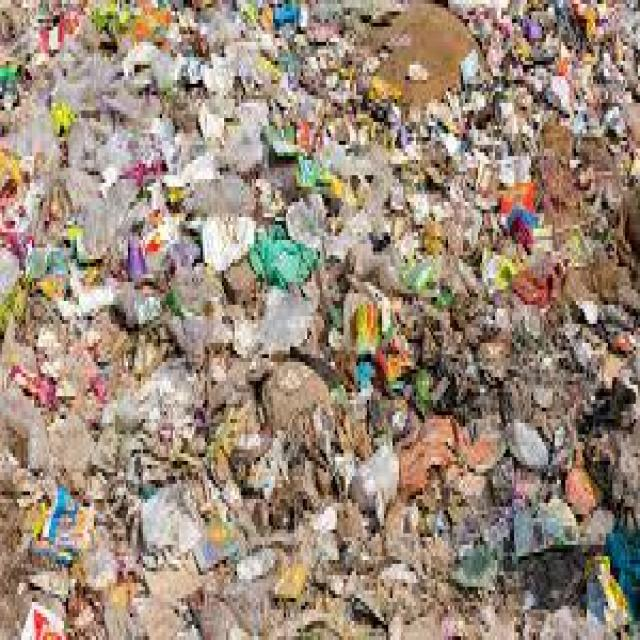plastic: (16, 24, 626, 618)
